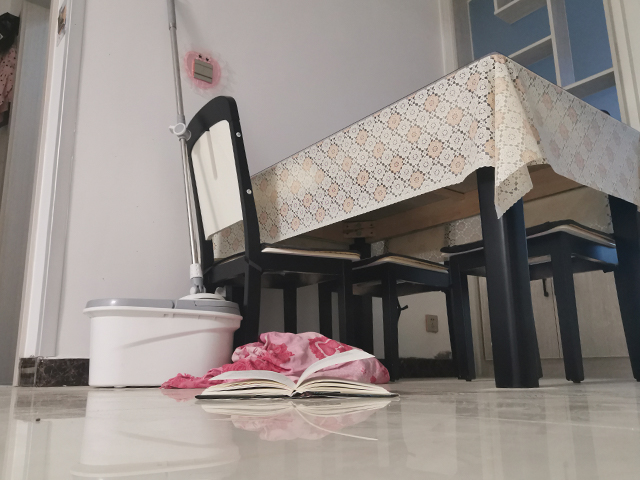book: (193, 347, 400, 401)
stool: (180, 93, 363, 391), (438, 217, 618, 384), (357, 256, 474, 379)
table: (200, 49, 639, 389)
